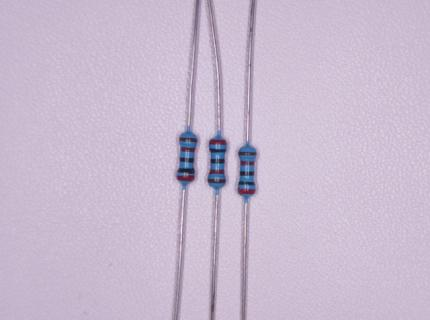Black band: (209, 148, 226, 153), (177, 168, 194, 173), (180, 157, 194, 163), (211, 159, 225, 164), (240, 171, 254, 176), (238, 181, 255, 185)
Brown band: (179, 137, 197, 142), (208, 179, 226, 183), (239, 152, 256, 155)
Red band: (238, 188, 255, 194), (177, 175, 194, 181), (209, 140, 226, 145), (181, 147, 194, 153), (209, 169, 224, 174), (241, 161, 255, 165)
